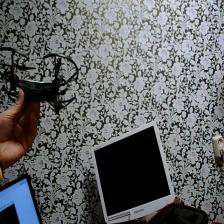drone: (0, 33, 78, 128)
